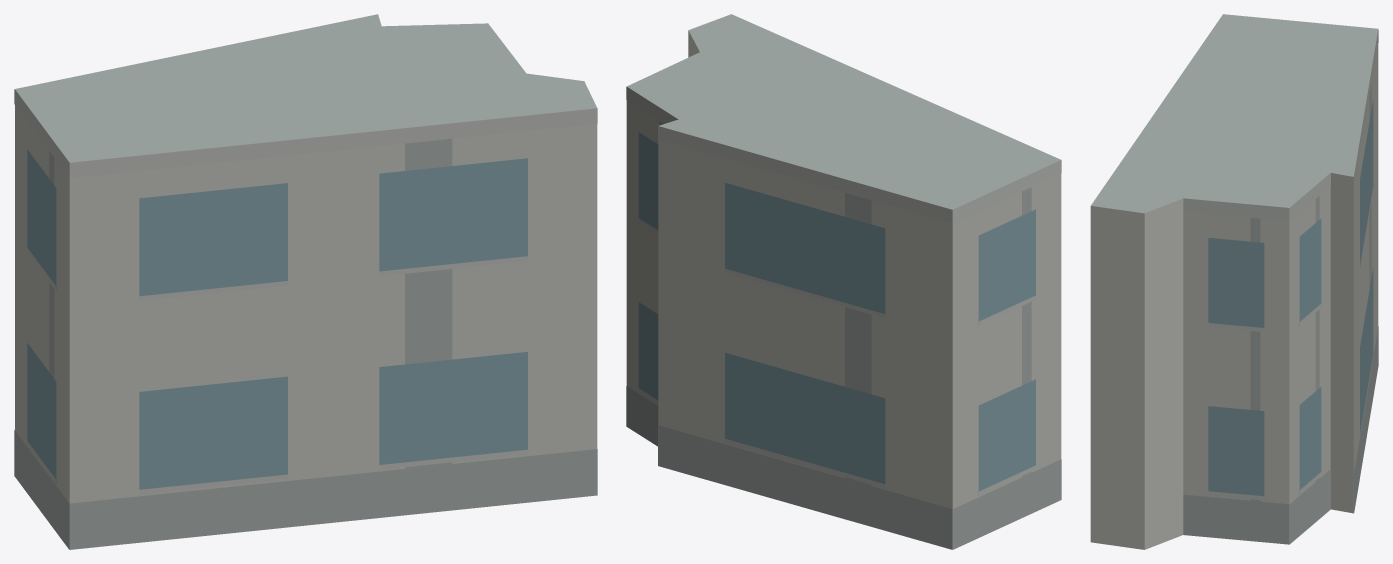
Rendered from survey-upis-32818718.glb.
3 views of the same model, side by side, from view 1: azimuth 30°, elevation 25°; view 2: azimuth 150°, elevation 25°; view 3: azimuth 270°, elevation 25° (orthographic). The views are drawn at different scales.
Visible parts, largest first — view 1: survey-upis-32818718.tmp; view 2: survey-upis-32818718.tmp; view 3: survey-upis-32818718.tmp.
Boxes of the visible parts, bbox=[...] form: survey-upis-32818718.tmp: bbox=[14, 14, 597, 549]; survey-upis-32818718.tmp: bbox=[626, 14, 1061, 549]; survey-upis-32818718.tmp: bbox=[1090, 14, 1378, 549].
Size of the model in its own units: 7.75 by 6.1 by 4.74.
